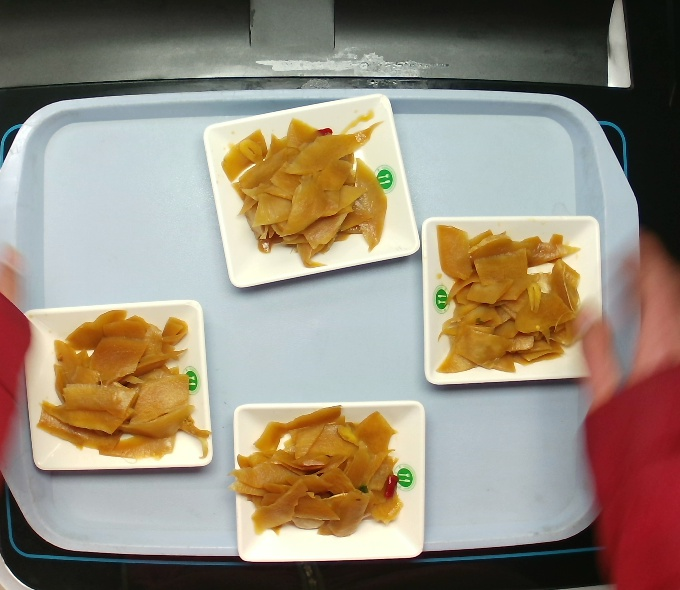wcq-JiangLuoBo: (218, 103, 399, 273), (40, 310, 201, 467), (435, 224, 591, 380), (232, 408, 410, 544)
